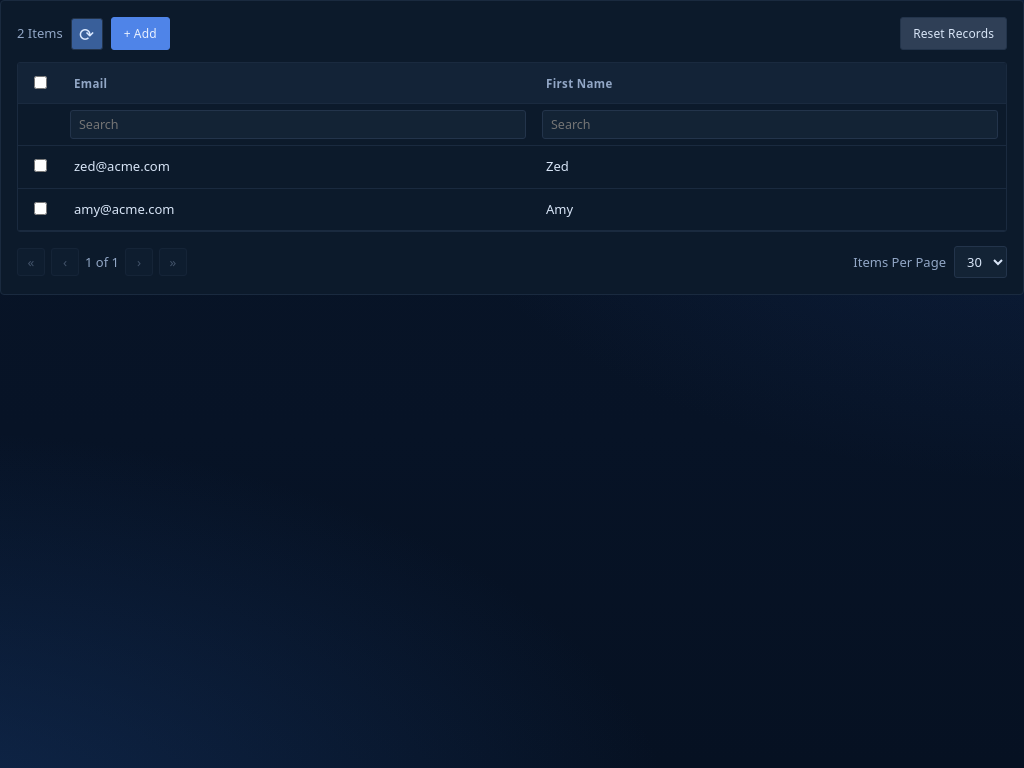
Test case: DataGrid component › filters records by column search input
Type "Amy" into the 1st field with placeholder "Search". click: (298, 125)
box: [70, 110, 526, 139]
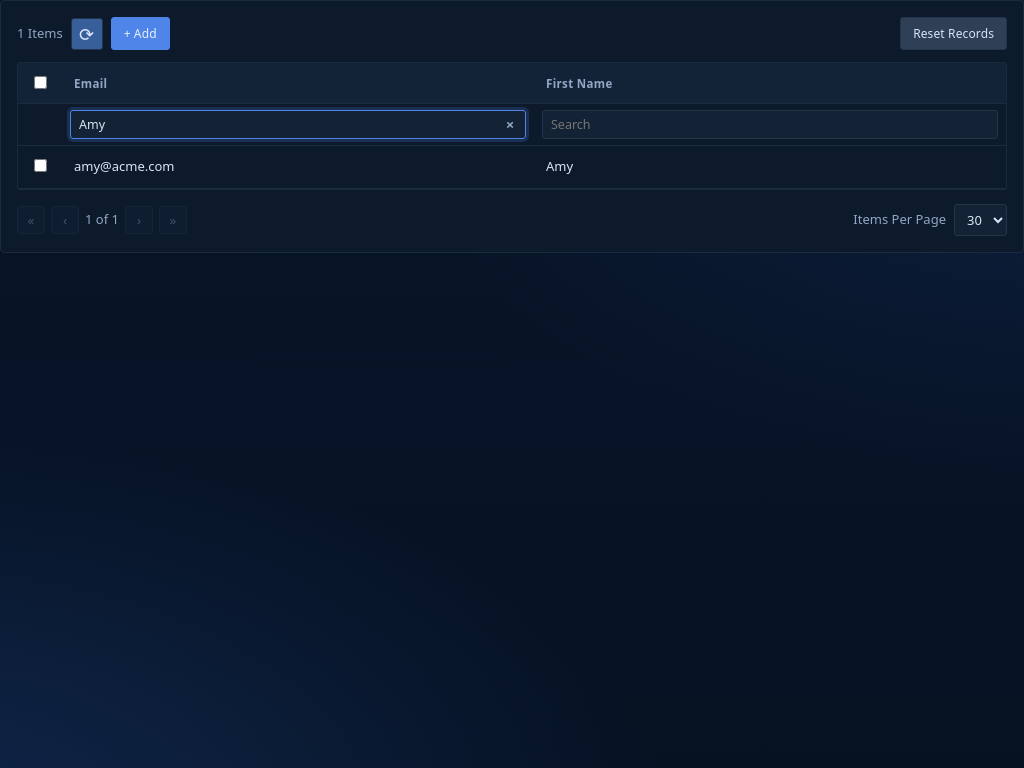
expect the text "Amy" is shown: met, box [534, 146, 1006, 188]
expect the text "zed" is gone: met
expect the text "1 Items" is shown: met, box [17, 24, 63, 43]
Click the button named "Clear Email filter". click: click(510, 125)
box: [502, 117, 518, 133]
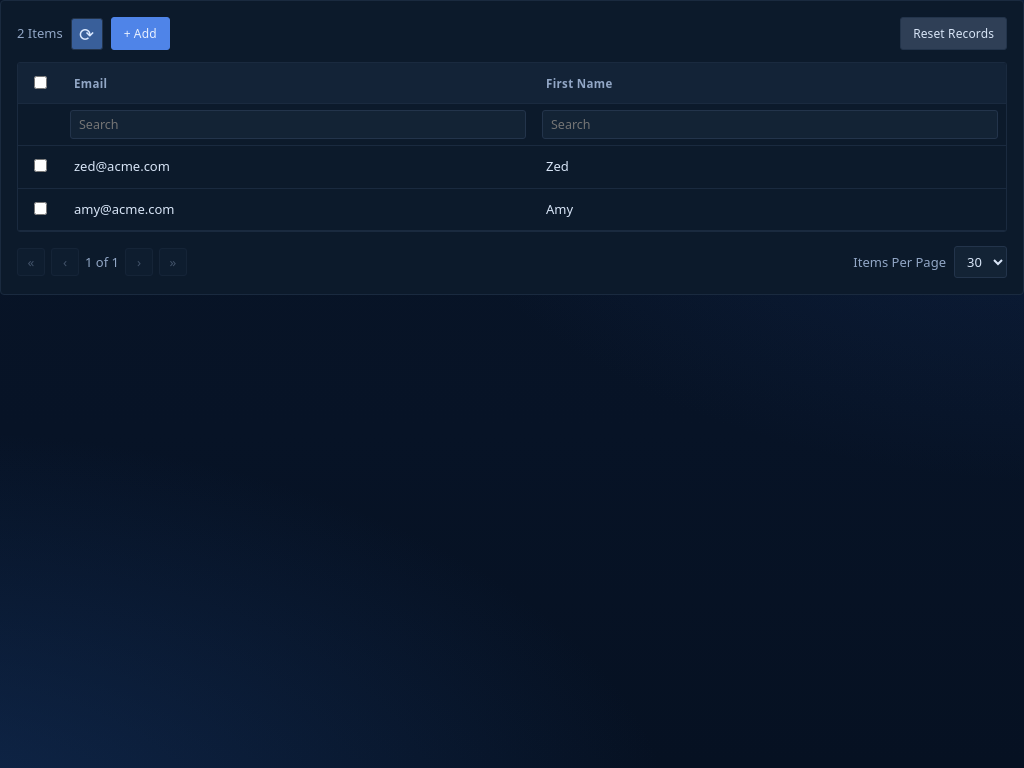
expect the text "Amy" is shown: met, box [534, 188, 1006, 231]
expect the text "Zed" is shown: met, box [534, 146, 1006, 188]
expect the text "2 Items" is shown: met, box [17, 24, 63, 43]
